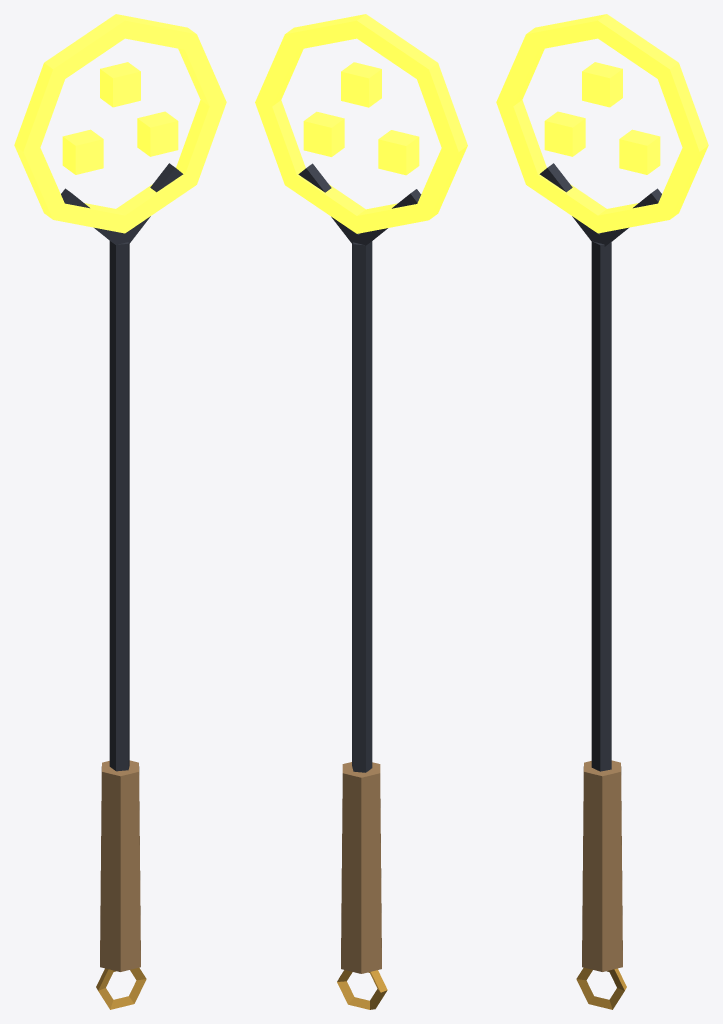
Rendered from Wpn_Melee_BrandingIron.fbx.
3 renders of one model, left to right at view 1: azimuth 30°, elevation 25°; view 2: azimuth 150°, elevation 25°; view 3: azimuth 330°, elevation 25°, orthographic.
Visible parts, largest first — view 1: Wpn_Melee_BrandingIron_Body, Wpn_Melee_BrandingIron_Head; view 2: Wpn_Melee_BrandingIron_Body, Wpn_Melee_BrandingIron_Head; view 3: Wpn_Melee_BrandingIron_Body, Wpn_Melee_BrandingIron_Head.
Part boxes in pixels (x1,y1,x2,y2): Wpn_Melee_BrandingIron_Body: (61,163,183,1009); Wpn_Melee_BrandingIron_Head: (14,14,226,233); Wpn_Melee_BrandingIron_Body: (298,163,421,1009); Wpn_Melee_BrandingIron_Head: (255,14,467,233); Wpn_Melee_BrandingIron_Body: (539,163,661,1009); Wpn_Melee_BrandingIron_Head: (496,14,708,233).
Bounding box in the file's own units: 0.2184 × 1.01 × 0.0381.
